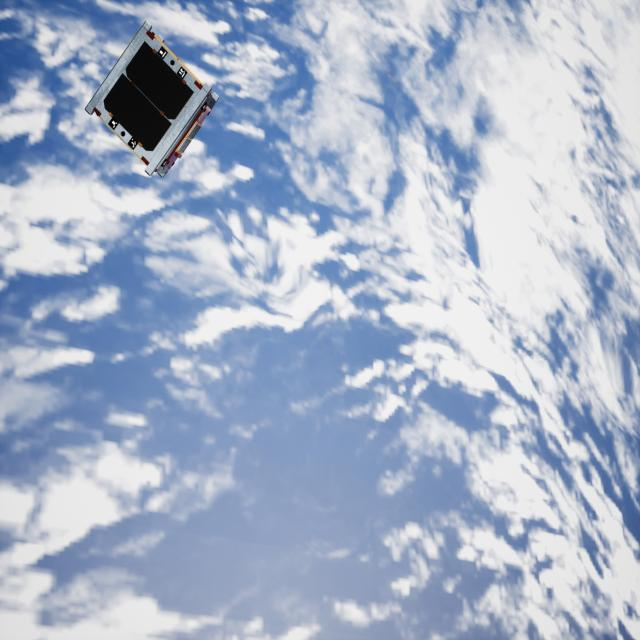medium_debris: (84, 24, 228, 188)
